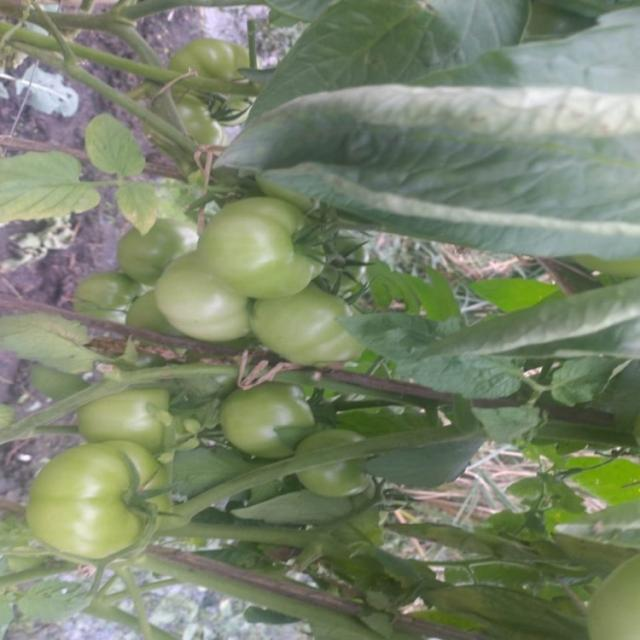tomato: (15, 444, 199, 570), (196, 191, 339, 306), (235, 272, 376, 380), (134, 246, 270, 348), (62, 386, 218, 456), (172, 36, 292, 126), (111, 218, 225, 300), (283, 420, 387, 508), (231, 375, 328, 458), (145, 86, 248, 155), (71, 263, 159, 335)
